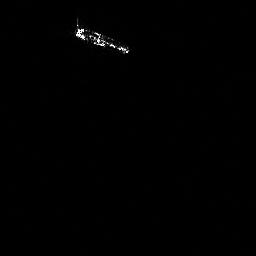ship: (71, 15, 134, 56)
